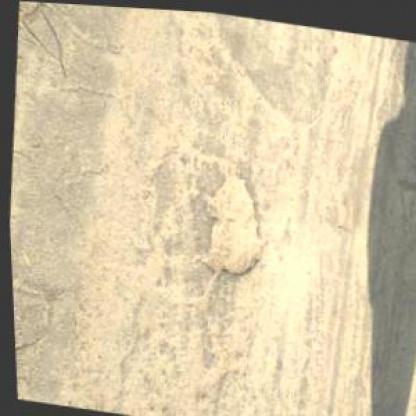pothole: (187, 164, 272, 283)
